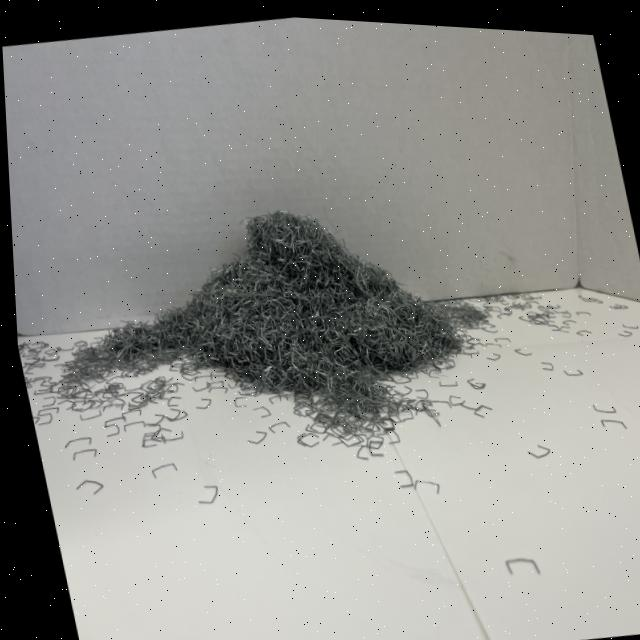staples: (29, 168, 483, 479)
